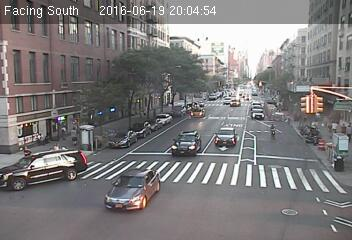neg: (264, 120, 279, 139)
pos: (66, 125, 81, 145), (22, 144, 32, 158), (330, 118, 339, 131)
